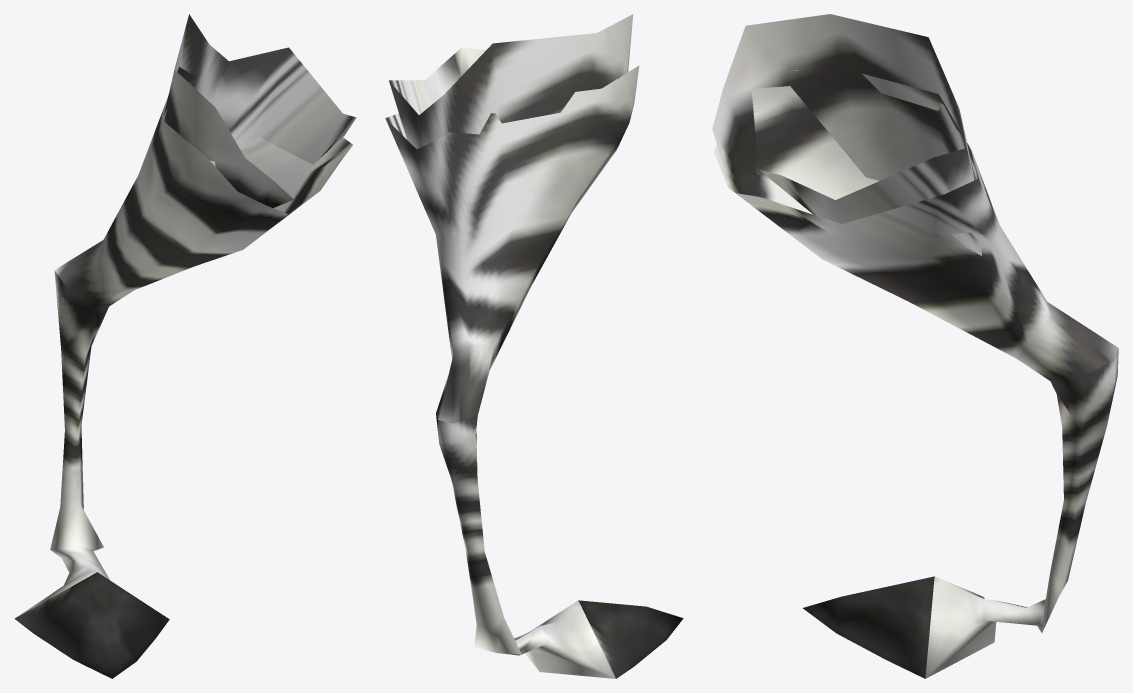
File: cebra_pata_der_atras.obj
The picture shows the model from 3 angles, left to right: view 1: azimuth 30°, elevation 25°; view 2: azimuth 150°, elevation 25°; view 3: azimuth 270°, elevation 25°; orthographic projection. The views are drawn at different scales.
Visible parts, largest first — view 1: cebra_pata_der_atras; view 2: cebra_pata_der_atras; view 3: cebra_pata_der_atras.
Part boxes in pixels (x1,y1,x2,y2): cebra_pata_der_atras: (14,14,356,678); cebra_pata_der_atras: (385,14,683,678); cebra_pata_der_atras: (712,14,1118,678).
Bounding box in the file's own units: 12.17 × 26.72 × 15.08.
1 material, 1 textured.
